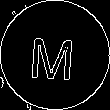M_N: (30, 28, 80, 82)
